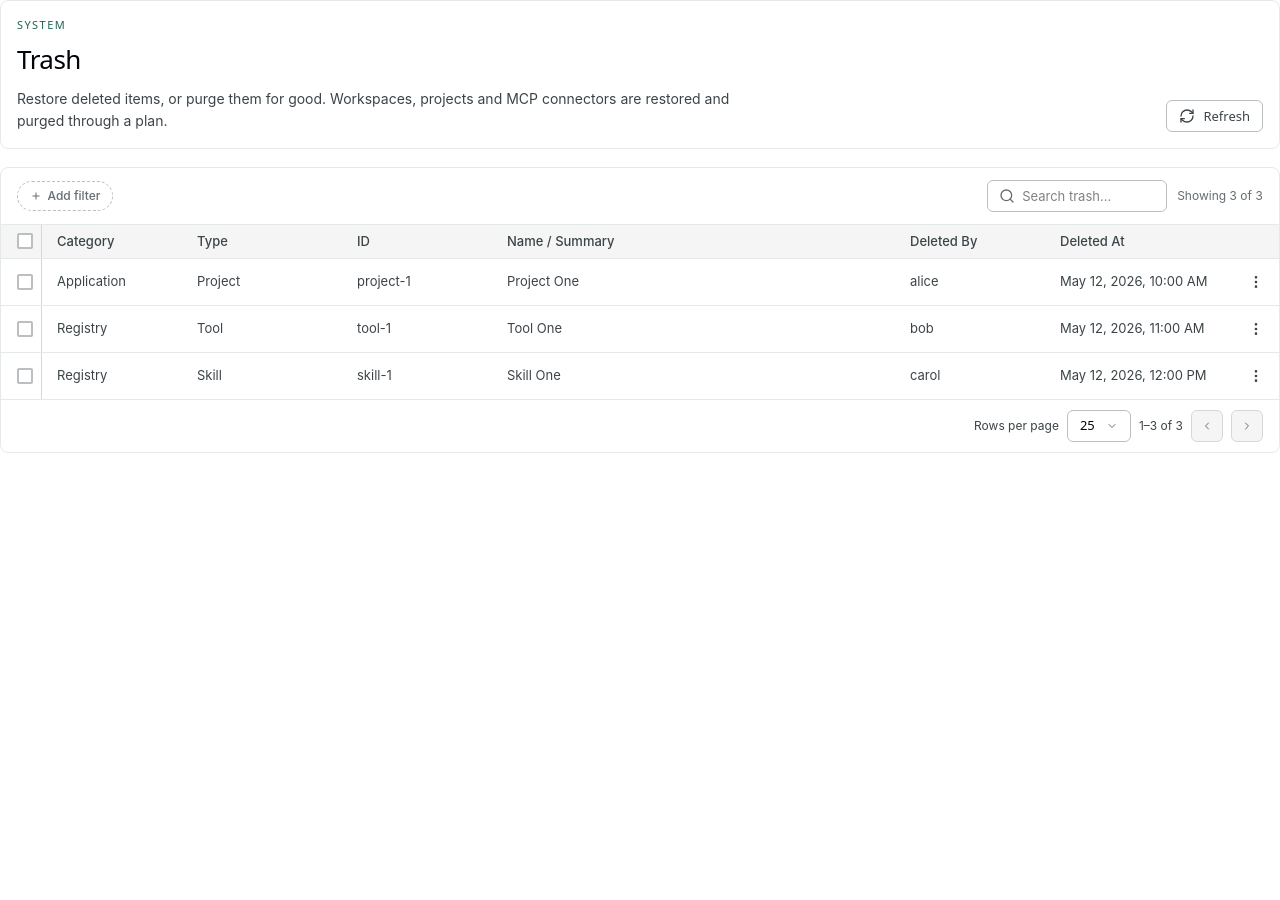
it: TrashPage › confirms a purge through the canon dialog and names it as irreversible
Click the button named "Actions for Tool Tool One": (1256, 328) [1240,312,1272,344]
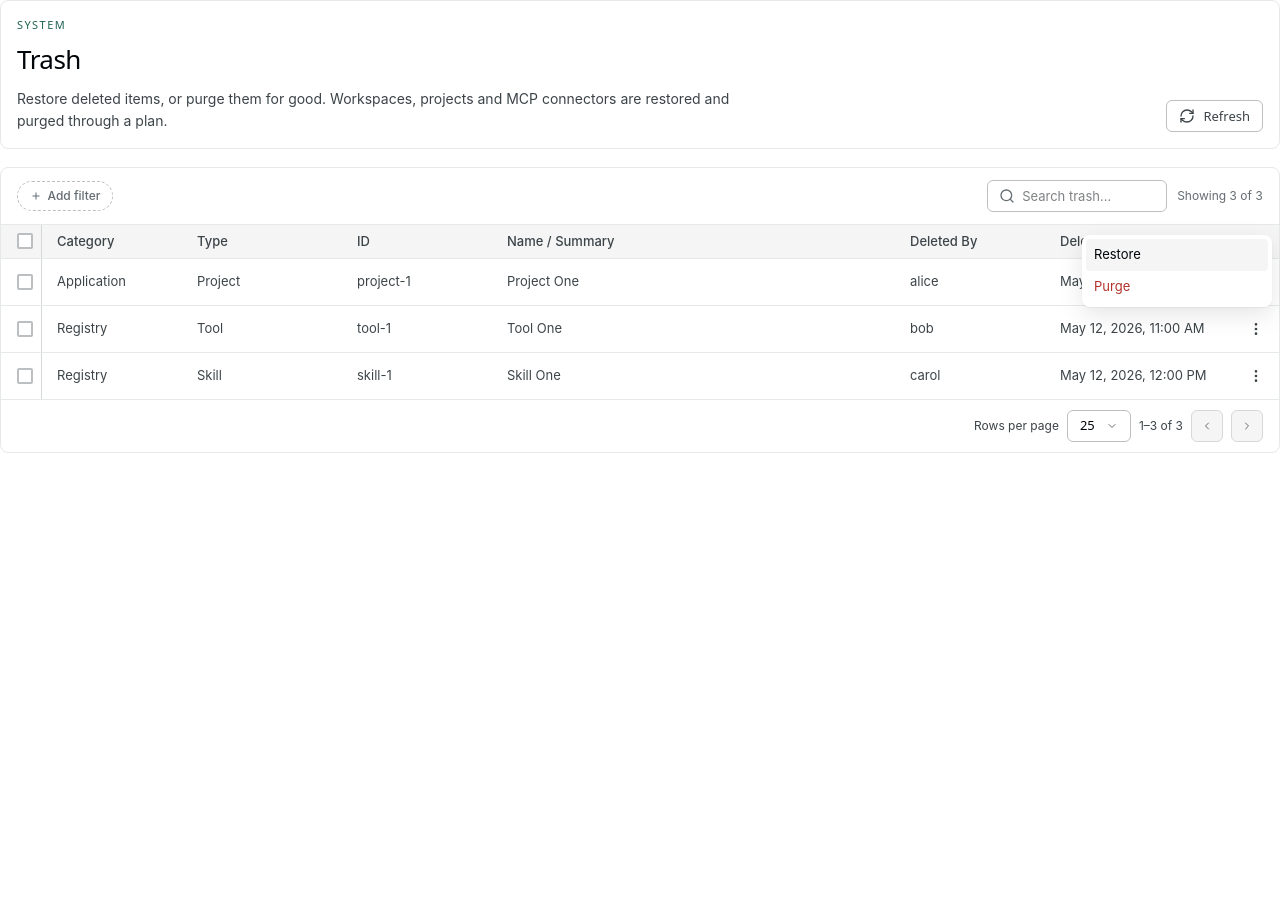
Click the menu item "Purge": (1177, 287) [1086,271,1268,303]
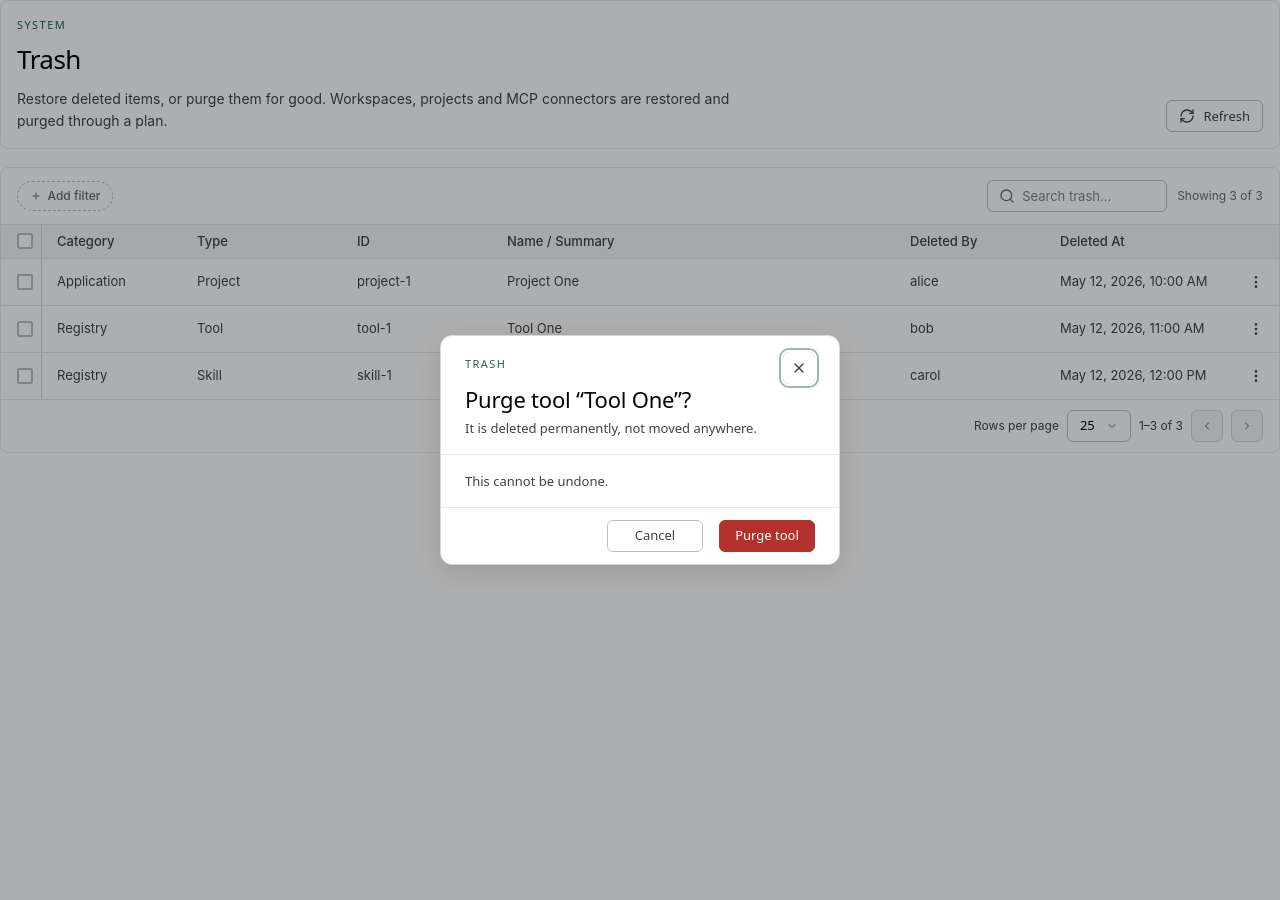
Expected: the text "This cannot be undone." is shown, [465,472,608,490]
Click the button "Purge tool": (767, 536) [719,520,815,552]
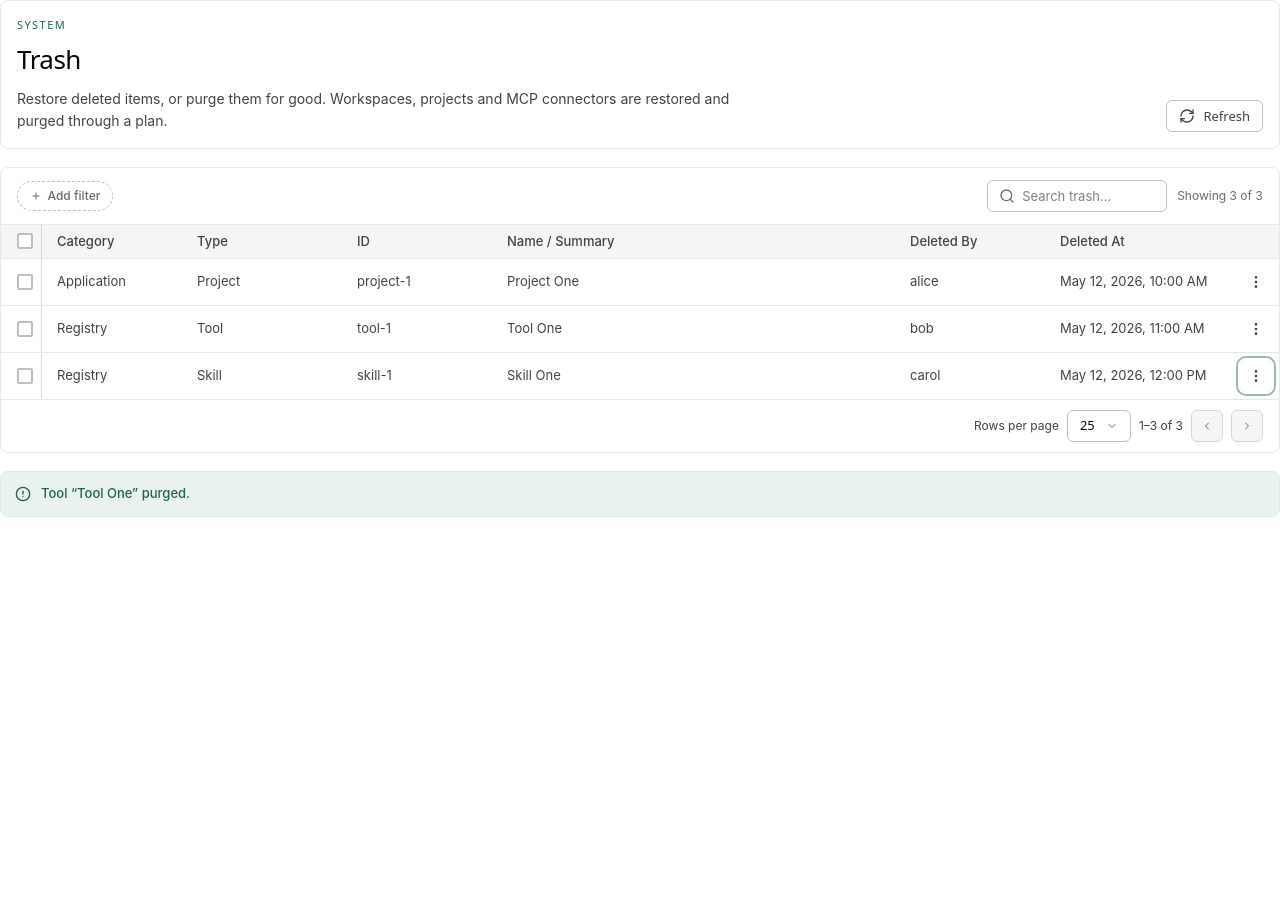
Expected: the dialog is gone
Expected: the text "Tool “Tool One” purged." is shown, [41,484,190,500]
